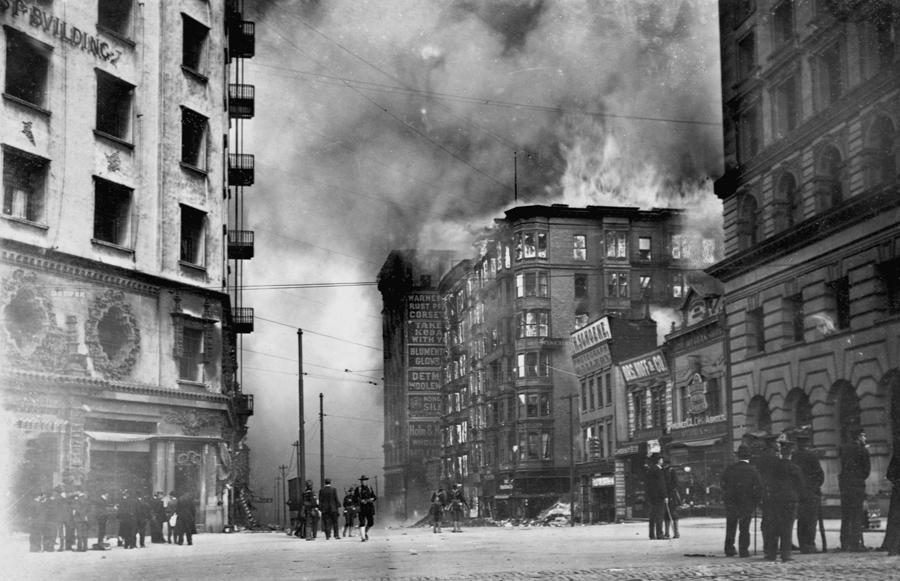smoke: (262, 39, 691, 183), (250, 203, 377, 482)
